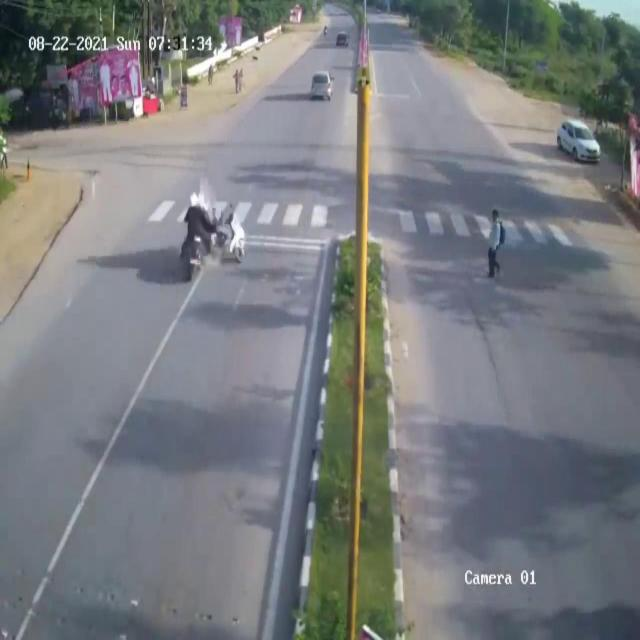accident: (169, 162, 263, 304)
